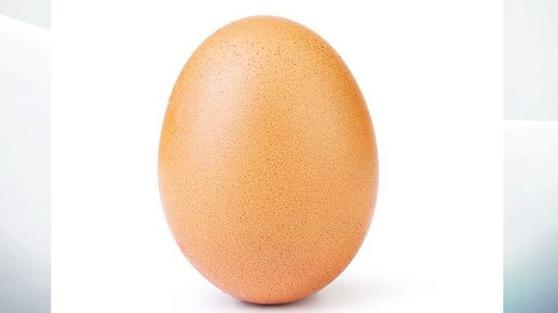egg: (160, 19, 383, 307)
